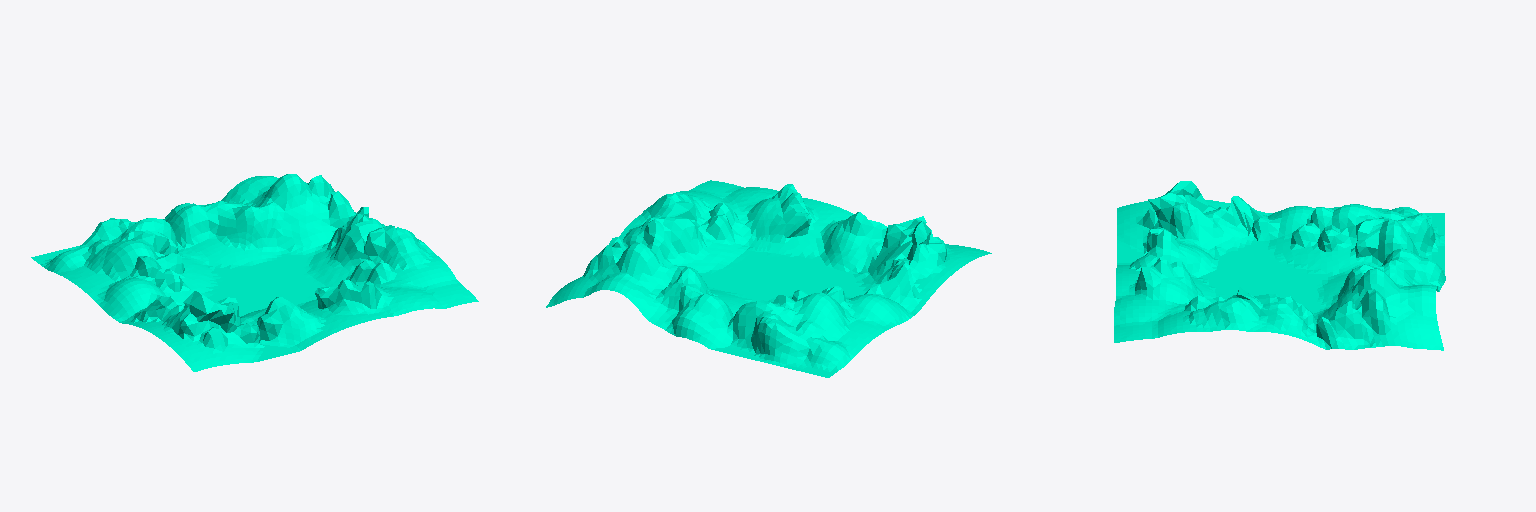
File: mountain_triangle.obj
3 views of the same model, side by side, from view 1: azimuth 30°, elevation 25°; view 2: azimuth 150°, elevation 25°; view 3: azimuth 270°, elevation 25° (orthographic).
Parts seen in each view (by area): view 1: pPlane1; view 2: pPlane1; view 3: pPlane1.
Part boxes in pixels (x1,y1,x2,y2): pPlane1: (31, 174, 478, 371); pPlane1: (546, 180, 991, 377); pPlane1: (1114, 181, 1445, 350).
Bounding box in the file's own units: 73.8 × 13.23 × 73.6.